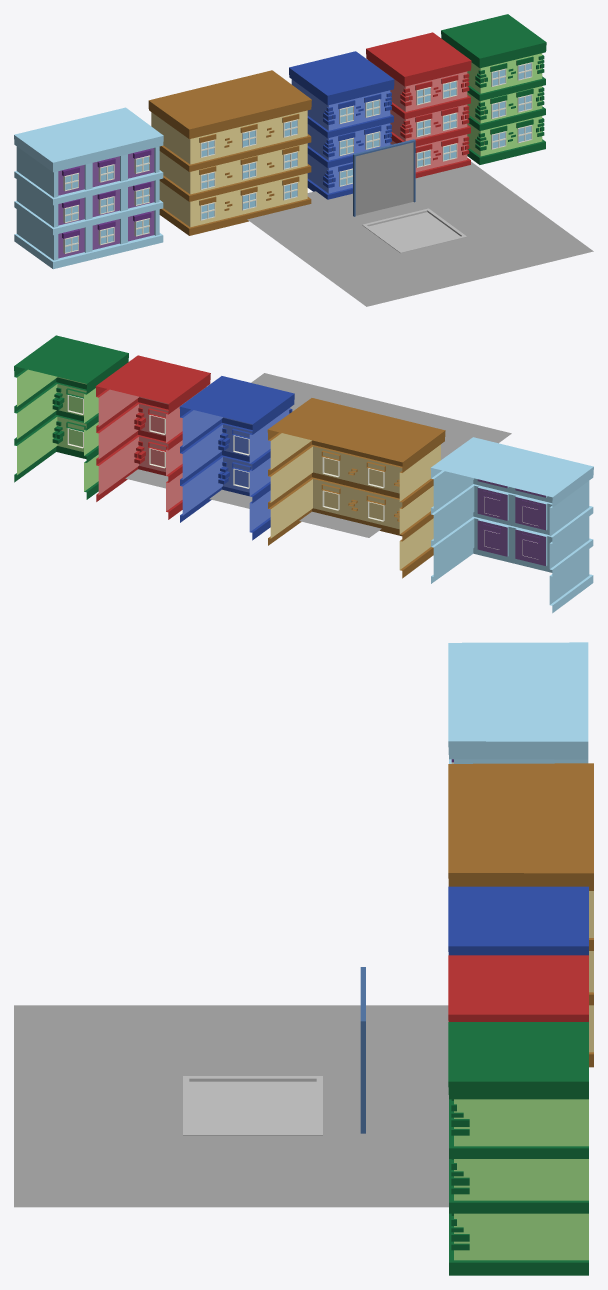
3 views of the same model, one above another, from view 1: azimuth 30°, elevation 25°; view 2: azimuth 150°, elevation 25°; view 3: azimuth 270°, elevation 25° (orthographic). The views are drawn at different scales.
Parts seen in each view (by area): view 1: Ground_02, House_02, House_03, House_01_Yellow, House_01_Red, House_01_Blue, Fence, Ground; view 2: House_02, House_03, House_01_Blue, House_01_Red, House_01_Yellow, Ground_02; view 3: Ground_02, House_01_Yellow, House_02, House_03, House_01_Blue, House_01_Red, Ground, Fence.
Part boxes in pixels (x1=…): Ground_02: x1=247, y1=161, x2=593, y2=306; House_02: x1=148, y1=70, x2=311, y2=235; House_03: x1=14, y1=107, x2=163, y2=269; House_01_Yellow: x1=441, y1=14, x2=546, y2=164; House_01_Red: x1=366, y1=32, x2=471, y2=178; House_01_Blue: x1=289, y1=51, x2=394, y2=199; Fence: x1=353, y1=139, x2=415, y2=216; Ground: x1=369, y1=212, x2=460, y2=250; House_02: x1=267, y1=398, x2=445, y2=578; House_03: x1=430, y1=437, x2=593, y2=613; House_01_Blue: x1=179, y1=376, x2=294, y2=540; House_01_Red: x1=95, y1=355, x2=210, y2=519; House_01_Yellow: x1=14, y1=335, x2=128, y2=499; Ground_02: x1=125, y1=373, x2=511, y2=537; Ground_02: x1=14, y1=1005, x2=448, y2=1207; House_01_Yellow: x1=448, y1=1022, x2=588, y2=1275; House_02: x1=448, y1=763, x2=593, y2=1067; House_03: x1=448, y1=642, x2=588, y2=763; House_01_Blue: x1=448, y1=886, x2=588, y2=955; House_01_Red: x1=448, y1=955, x2=588, y2=1021; Ground: x1=189, y1=1081, x2=316, y2=1132; Fence: x1=360, y1=967, x2=365, y2=1133.
Bounding box in the file's own units: 19211 × 4269 × 10725.
